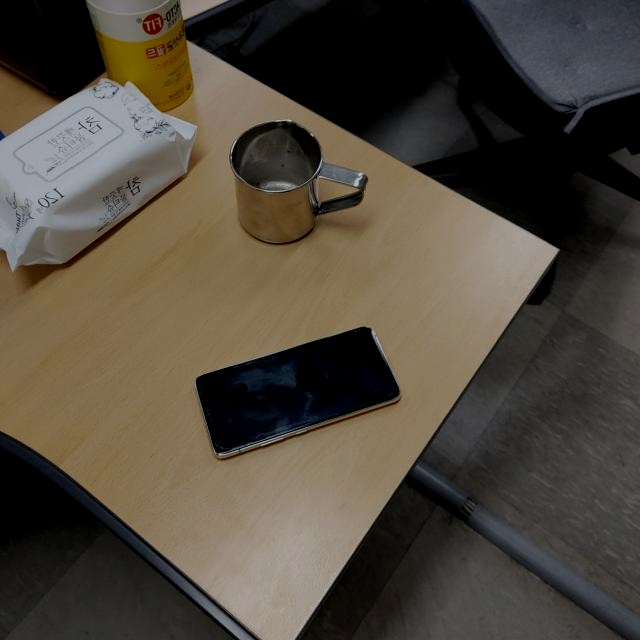cup: (228, 117, 369, 246)
phone: (193, 322, 403, 462)
